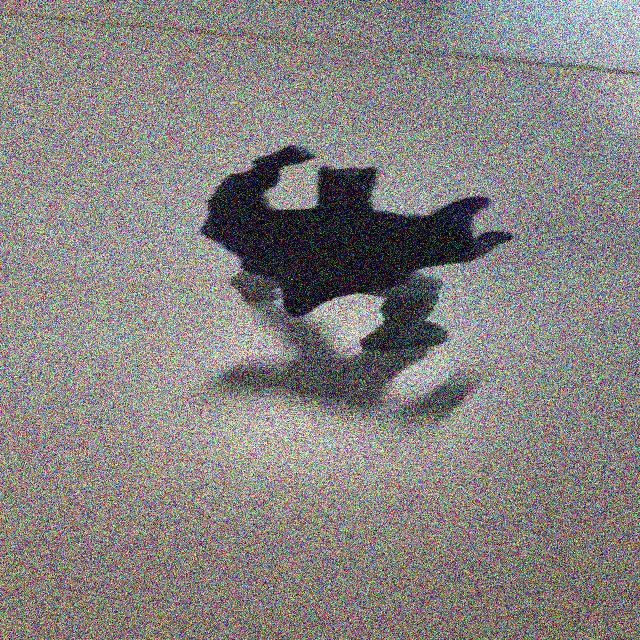Batman: (180, 144, 527, 350)
